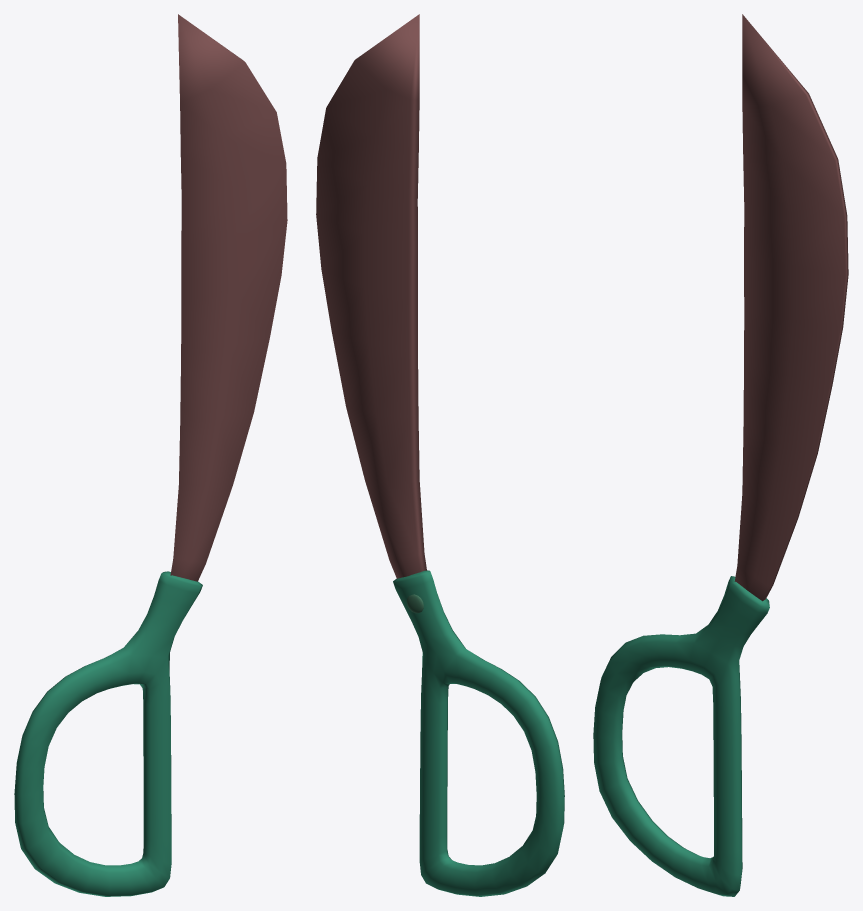
The model's file is ScissorWeapon-optimized.glb.
3 views of the same model, side by side, from view 1: azimuth 30°, elevation 25°; view 2: azimuth 150°, elevation 25°; view 3: azimuth 330°, elevation 25° (orthographic). The views are drawn at different scales.
Parts seen in each view (by area): view 1: Cube.008; view 2: Cube.008; view 3: Cube.008.
Part boxes in pixels (box(x1,y1,x2,y2)): Cube.008: box(14, 14, 287, 896); Cube.008: box(316, 14, 564, 896); Cube.008: box(593, 14, 848, 896).
Size of the model in its own units: 2.07 by 6.66 by 0.2502.
1 material, 1 textured.
